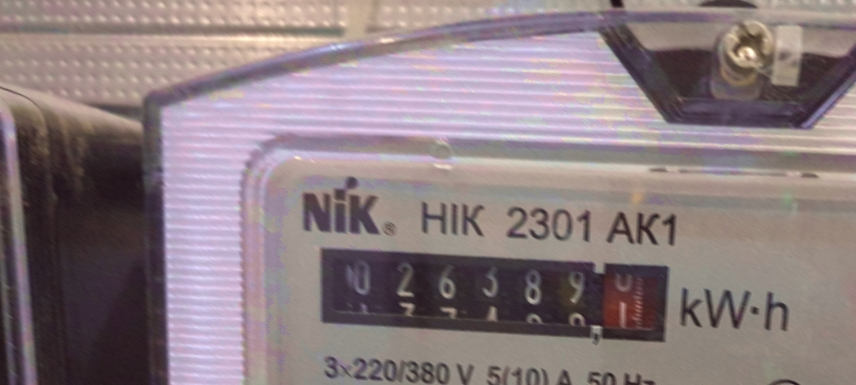0: (349, 258, 375, 299), (613, 273, 633, 295)
1: (615, 300, 630, 332)
2: (393, 260, 419, 301)
3: (480, 266, 500, 301)
6: (437, 262, 458, 303)
8: (522, 268, 546, 308)
9: (566, 271, 586, 306)
screen: (301, 229, 687, 363)
